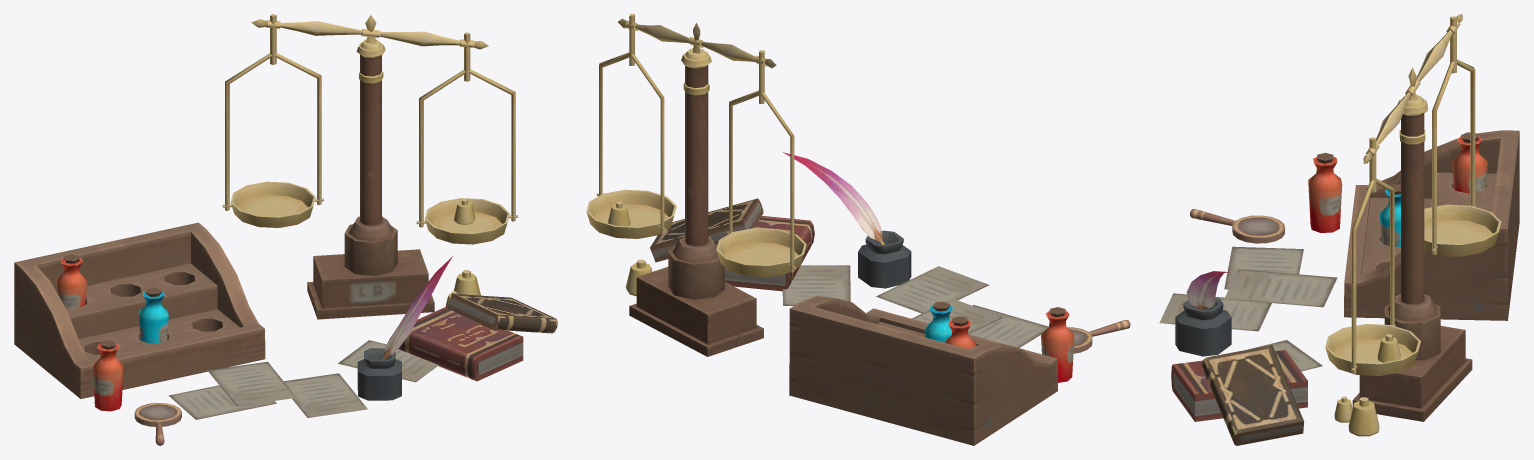
The model's file is Homeworld_Interior_Md_Thing_Alchemy_02_Vo.fbx.
3 renders of one model, left to right at view 1: azimuth 30°, elevation 25°; view 2: azimuth 150°, elevation 25°; view 3: azimuth 270°, elevation 25°, orthographic. The views are drawn at different scales.
Visible parts, largest first — view 1: Homeworld_Interior_Md_Thing_Alchemy_02_Vo; view 2: Homeworld_Interior_Md_Thing_Alchemy_02_Vo; view 3: Homeworld_Interior_Md_Thing_Alchemy_02_Vo.
Boxes of the visible parts, x1=… form: Homeworld_Interior_Md_Thing_Alchemy_02_Vo: x1=14, y1=14, x2=557, y2=445; Homeworld_Interior_Md_Thing_Alchemy_02_Vo: x1=586, y1=14, x2=1130, y2=445; Homeworld_Interior_Md_Thing_Alchemy_02_Vo: x1=1159, y1=14, x2=1519, y2=445.
Bounding box in the file's own units: 1.42 × 0.9264 × 0.9054.
1 material, 1 textured.
